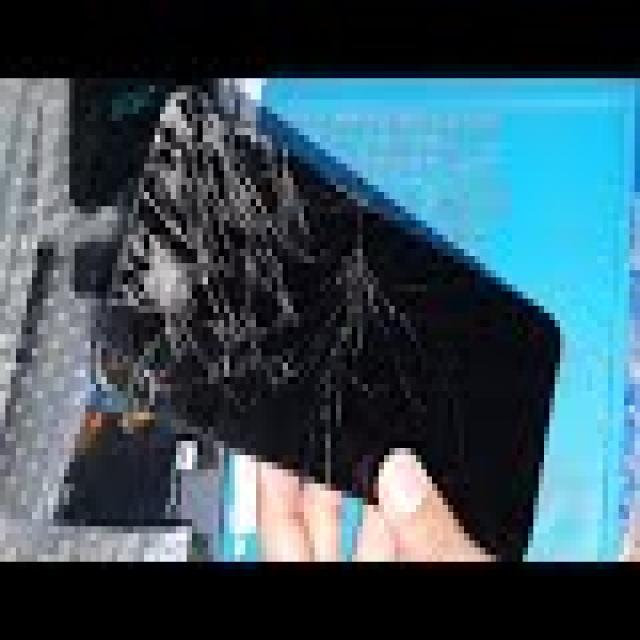mobile phone: (88, 85, 570, 558)
